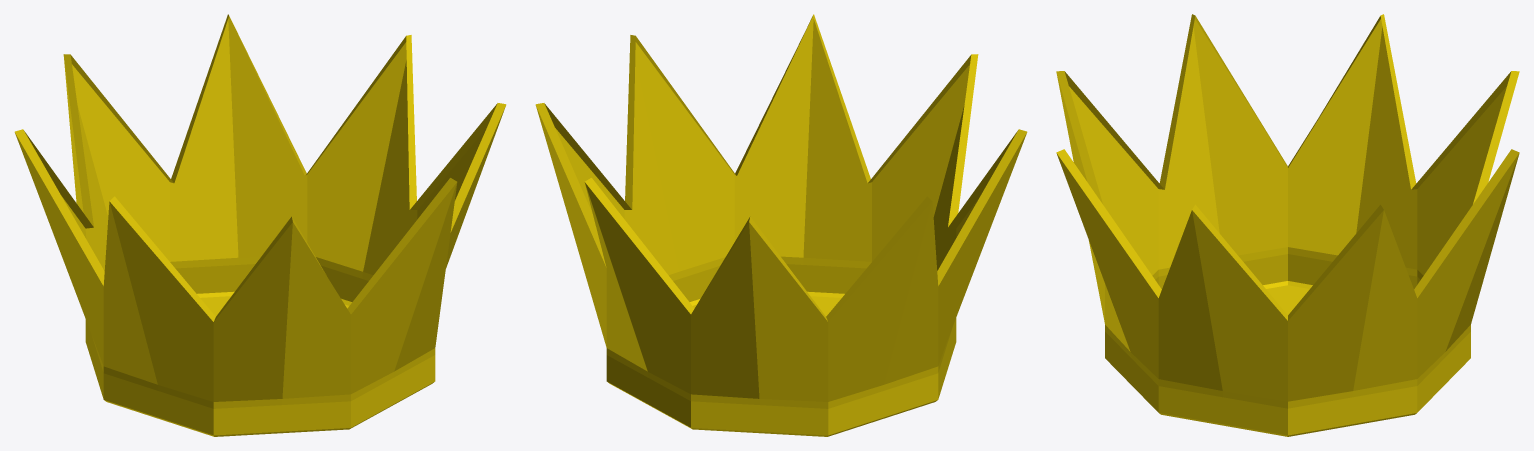
File: korona.fbx
The picture shows the model from 3 angles, left to right: view 1: azimuth 30°, elevation 25°; view 2: azimuth 150°, elevation 25°; view 3: azimuth 270°, elevation 25°; orthographic projection.
Visible parts, largest first — view 1: Cylinder.001; view 2: Cylinder.001; view 3: Cylinder.001.
Boxes of the visible parts, x1,y1,x2,y2 form: Cylinder.001: (14,14,506,436); Cylinder.001: (535,14,1027,436); Cylinder.001: (1056,14,1519,436).
Size of the model in its own units: 2203 by 1318 by 2203.
